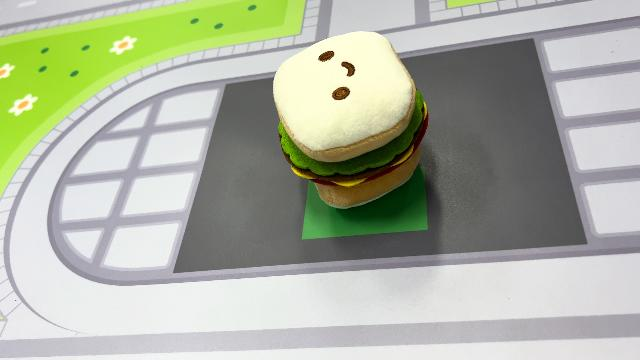sandwich: (270, 28, 430, 210)
